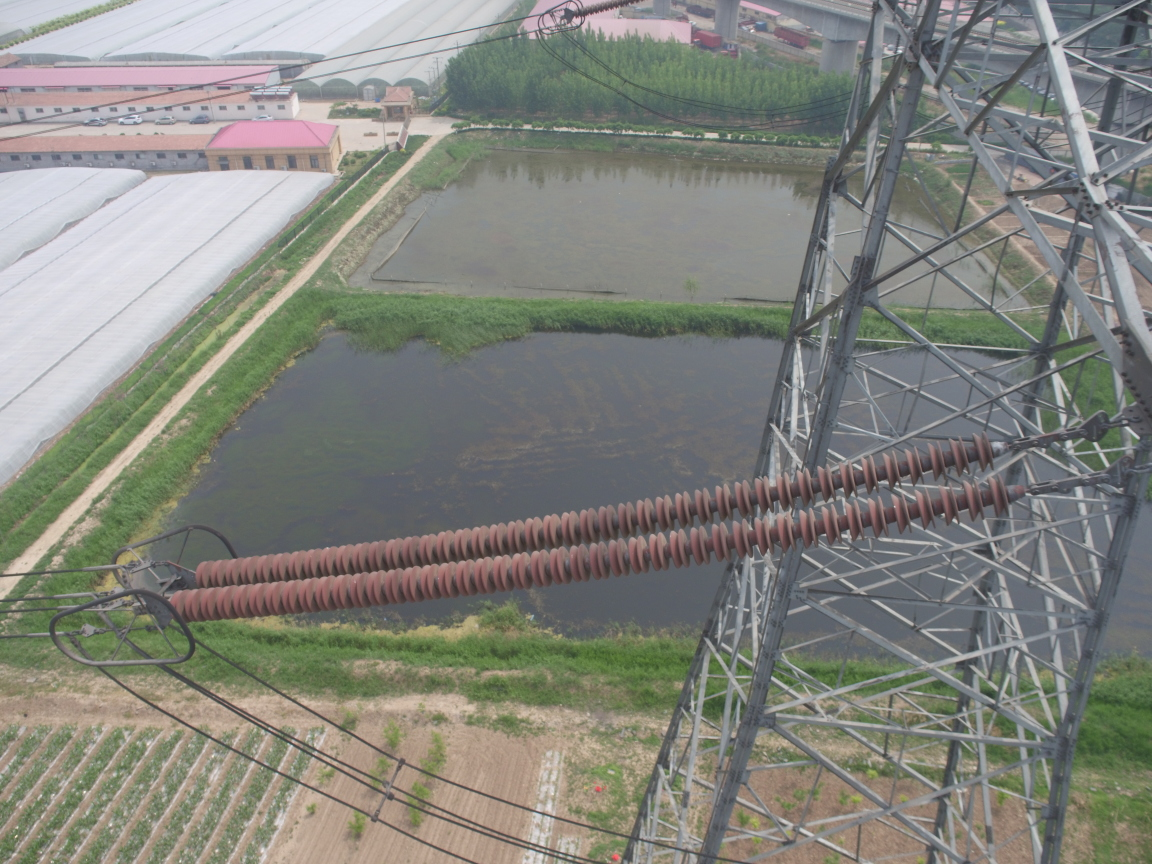insulator: (153, 426, 1064, 630)
